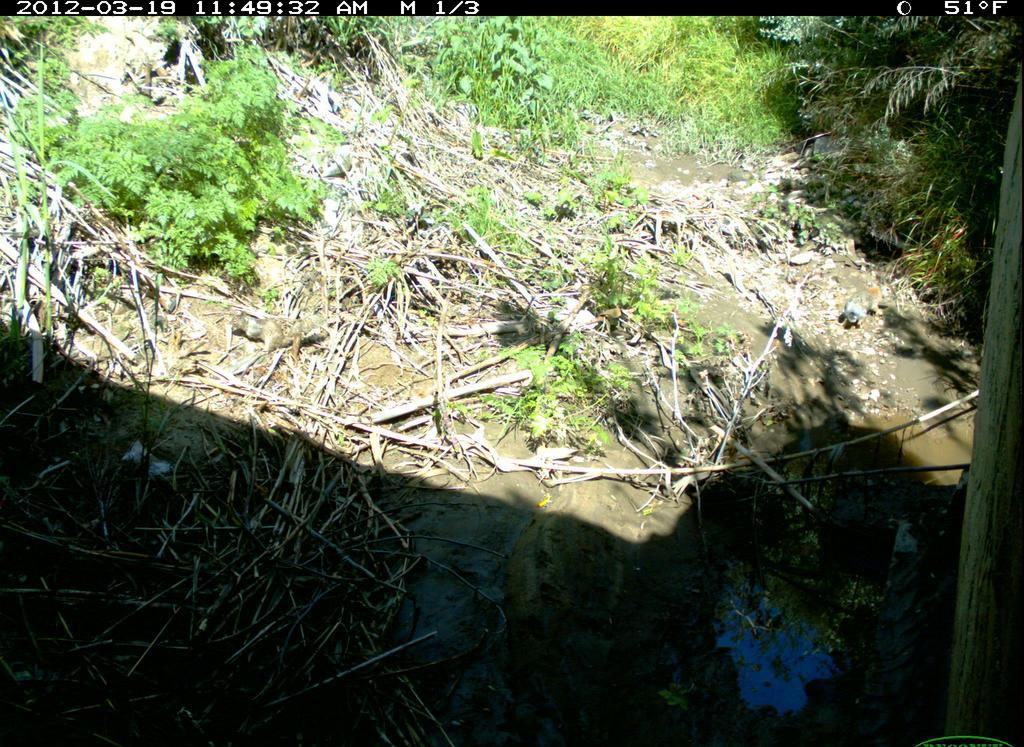squirrel: (226, 308, 328, 358)
